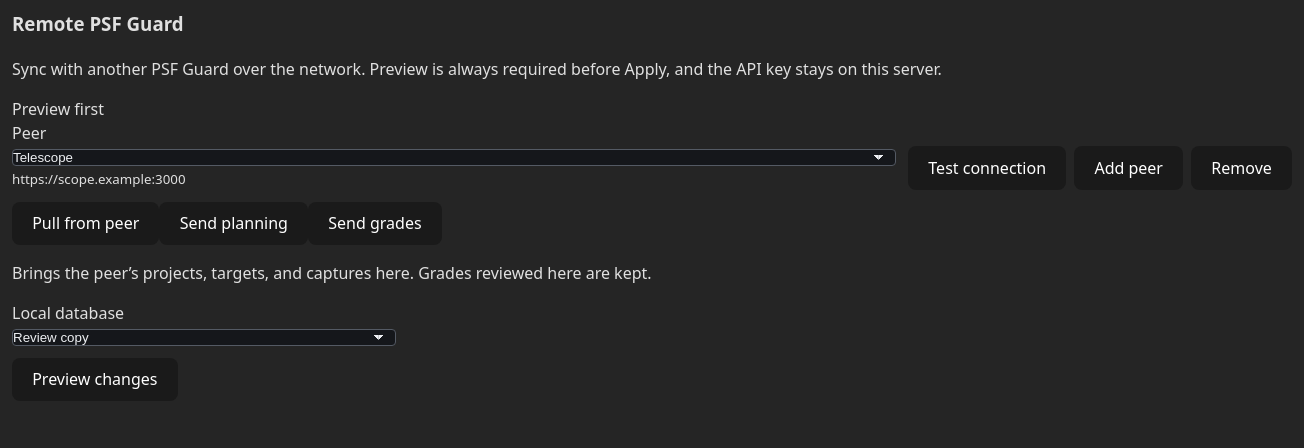
Test: RemotePeerSync › reports an unreachable peer without failing the page
Click the button "Test connection": (987, 168) top-left (908, 146), bottom-right (1066, 190)
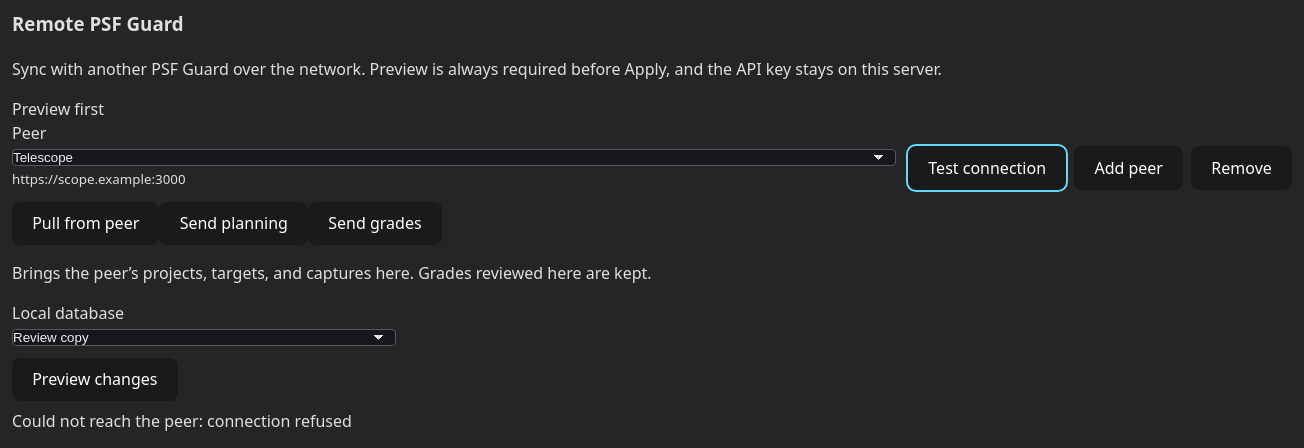
Check: the button "Preview changes" is enabled, box top-left (12, 358), bottom-right (178, 401)
Check: the text "Could not reach the peer: connection refused" is shown, box top-left (12, 410), bottom-right (352, 432)
